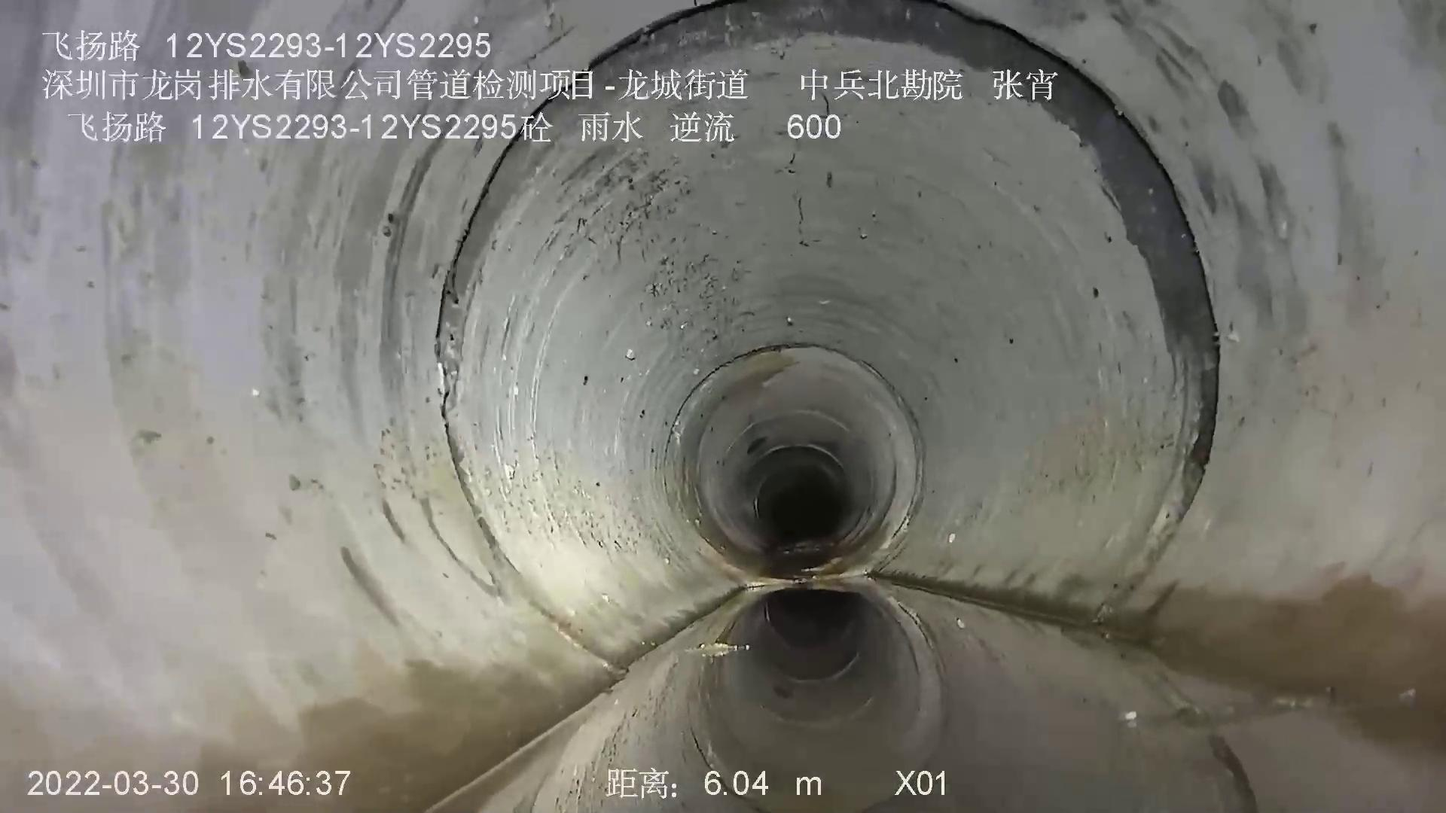CKTJ: (435, 0, 1220, 573), (691, 344, 925, 532)
